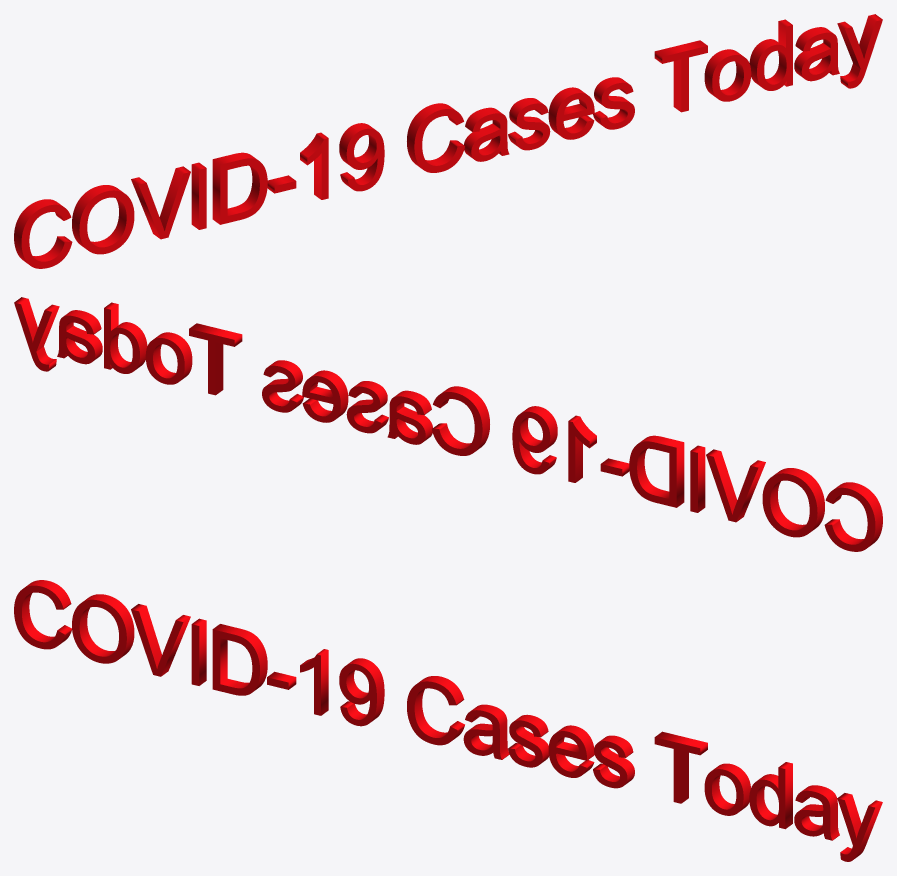
File: covidtext.glb
3 views of the same model, one above another, from view 1: azimuth 30°, elevation 25°; view 2: azimuth 150°, elevation 25°; view 3: azimuth 330°, elevation 25° (orthographic).
Visible parts, largest first — view 1: Text; view 2: Text; view 3: Text.
Boxes of the visible parts, left/top/right/bottom form: Text: left=14, top=14, right=882, bottom=268; Text: left=14, top=297, right=882, bottom=551; Text: left=14, top=580, right=882, bottom=861.
Size of the model in its own units: 7.86 by 0.6883 by 0.12.
